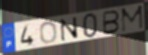0: (82, 13, 99, 40)
4: (20, 24, 35, 47)
B: (102, 10, 121, 36)
M: (120, 4, 145, 34)
N: (59, 16, 80, 42)
O: (39, 20, 58, 44)
